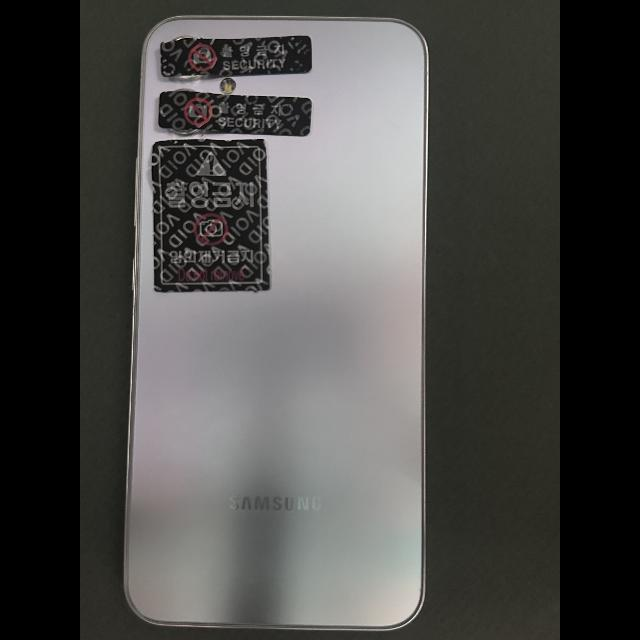phone: (125, 16, 428, 630)
sticker: (151, 138, 274, 292), (159, 92, 312, 135), (160, 35, 313, 77)
